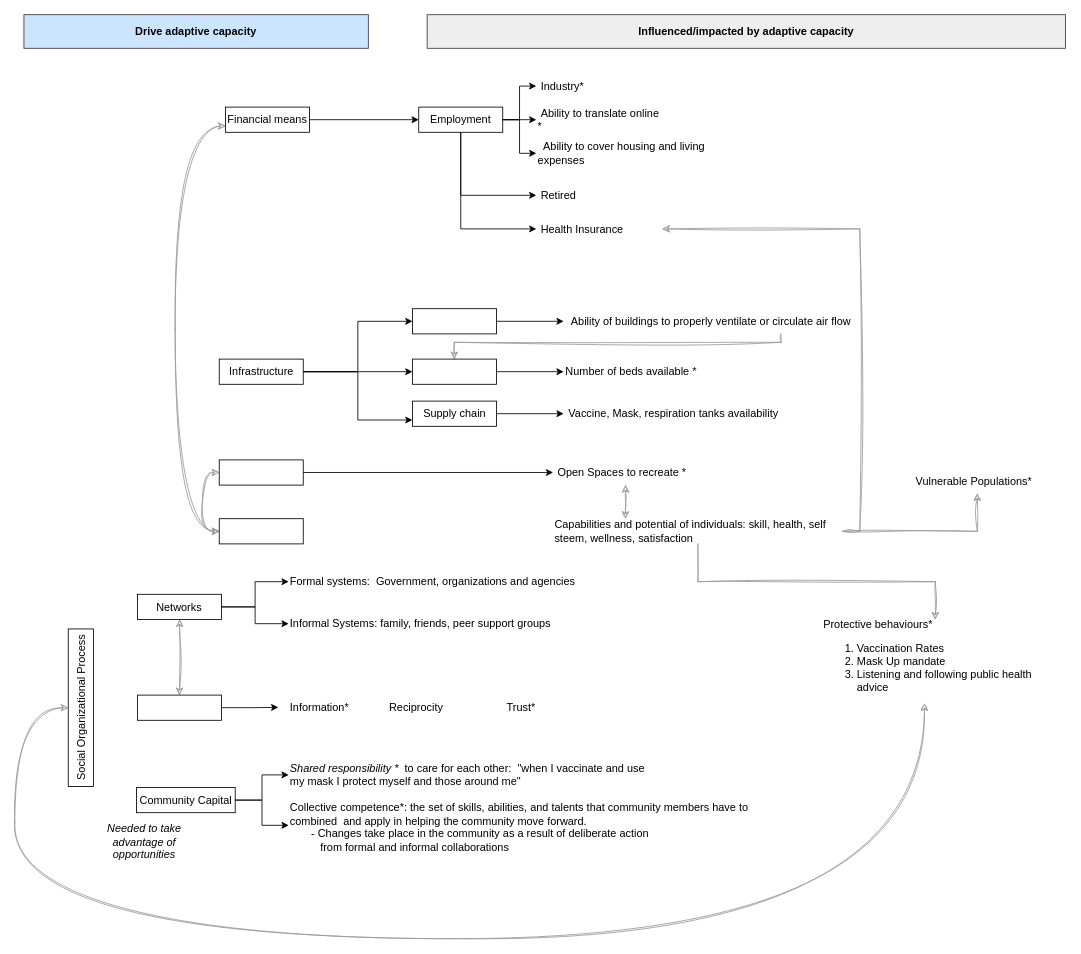
The diagram is 1081 pixels wide and 954 high, and some of its shapes have lost their labels. Here are the shapes that lost their labels. From the top down, the centre of each, then its label:
the point at 454,321: Buildings
the point at 454,371: Hospitals
the point at 260,472: Natural Capital *
the point at 260,531: Human Capital *
the point at 179,707: Social Capital
